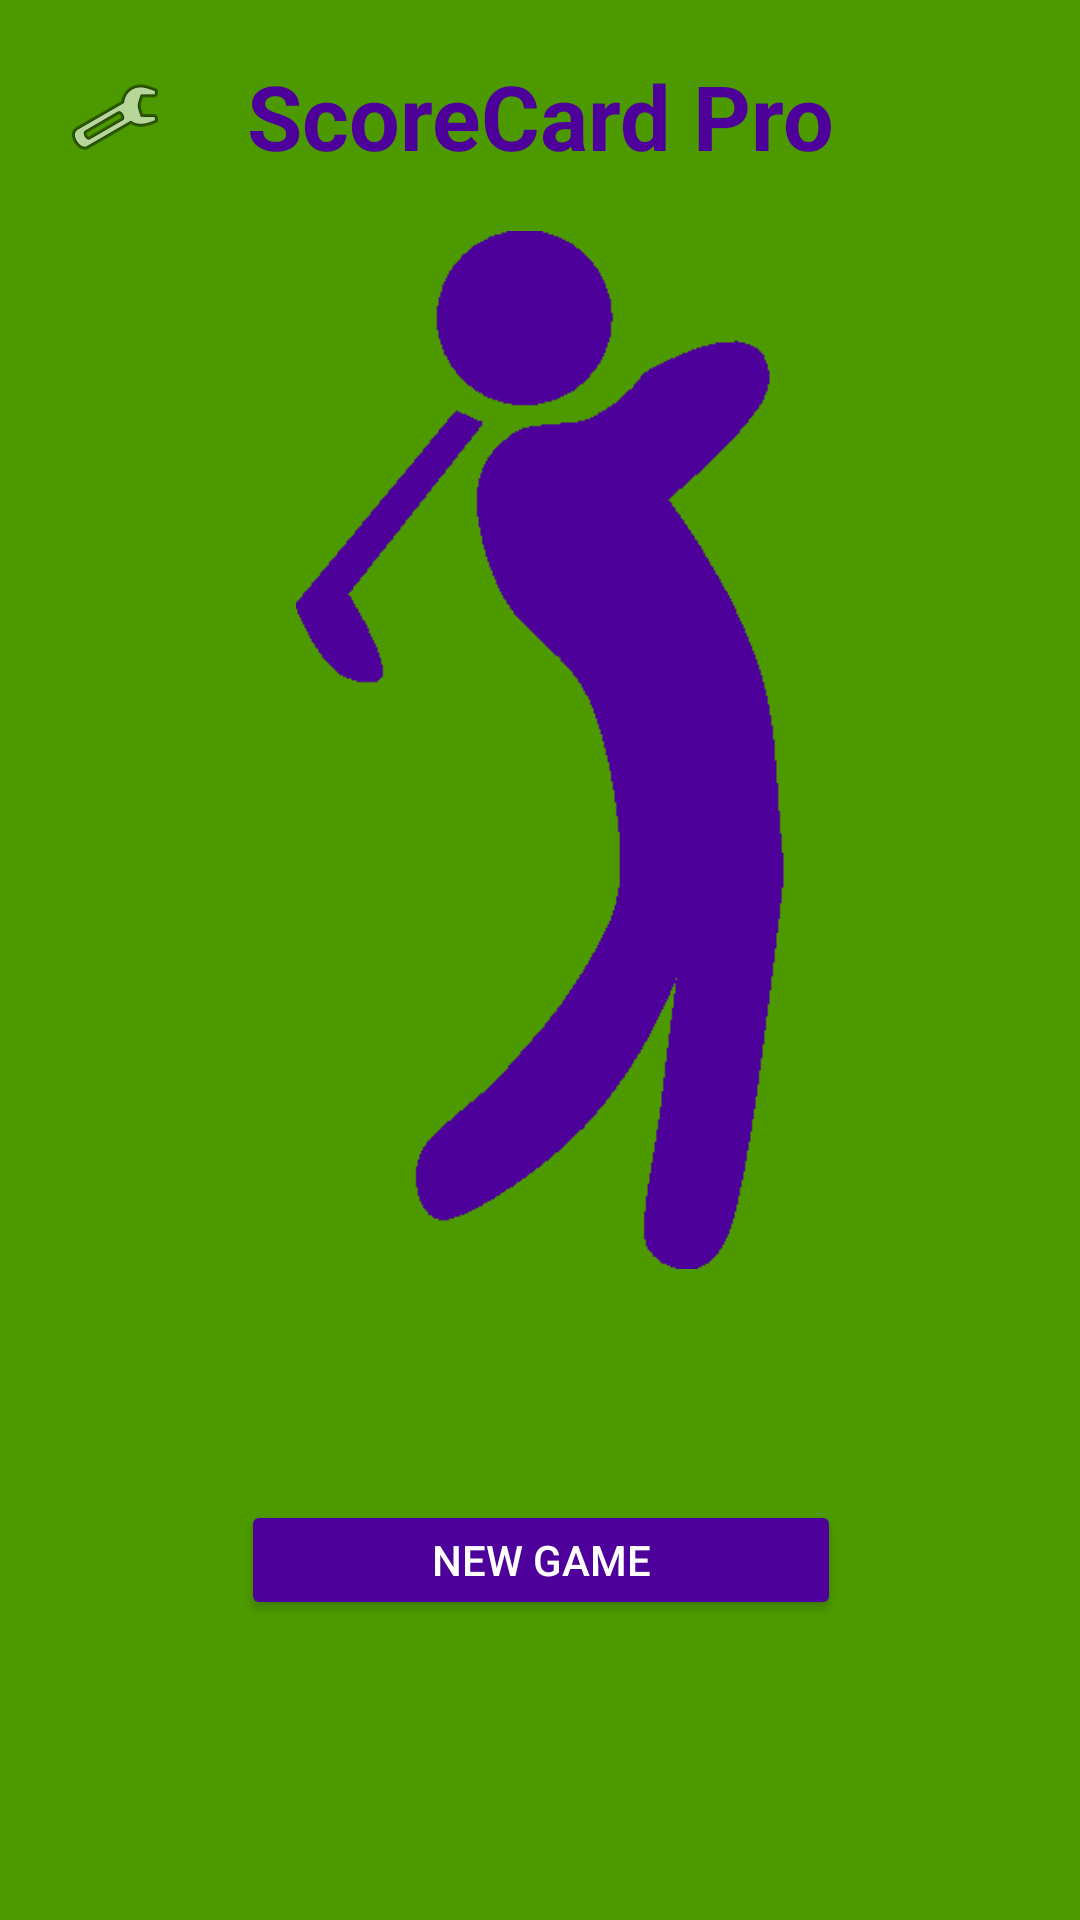

Point at icon controls on the screen. Image size 1080x1920, points as (x=x, y=y).
manage: (x=115, y=117)
